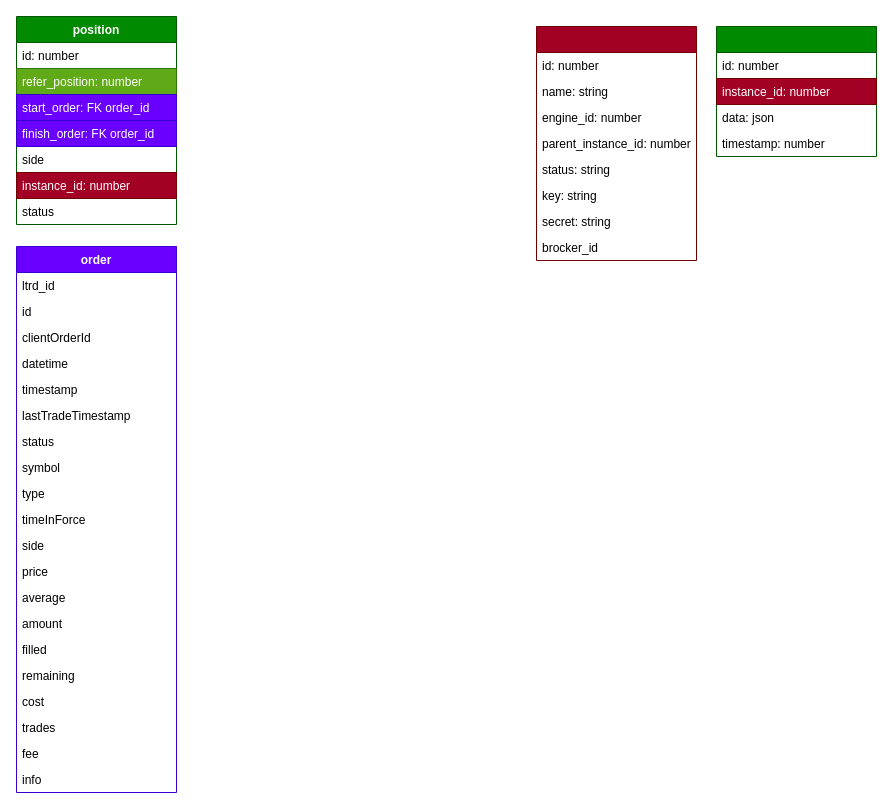
Image size: 893x809. Some labels were removed from this diagram. The shapes that lost their labels are listed below. From the top down, each one's box as (x1, y1, x2, y2) in pixels, then its label:
(716, 26, 876, 156): balance
(536, 26, 696, 260): instances
